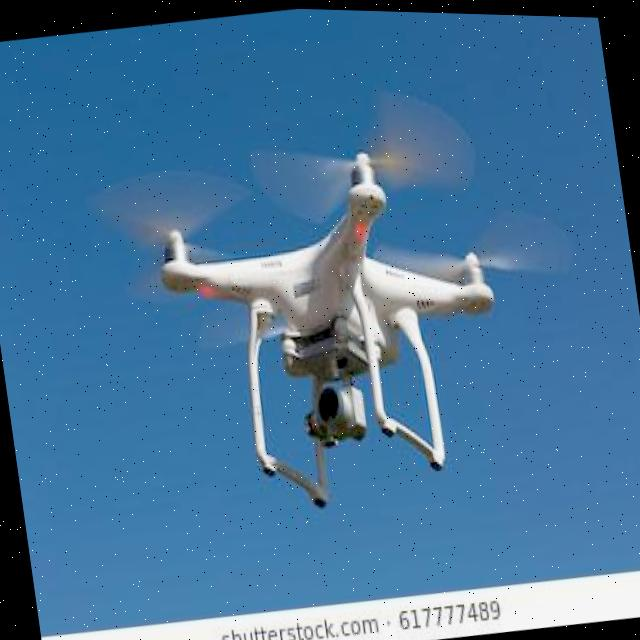drone: (82, 57, 602, 542)
